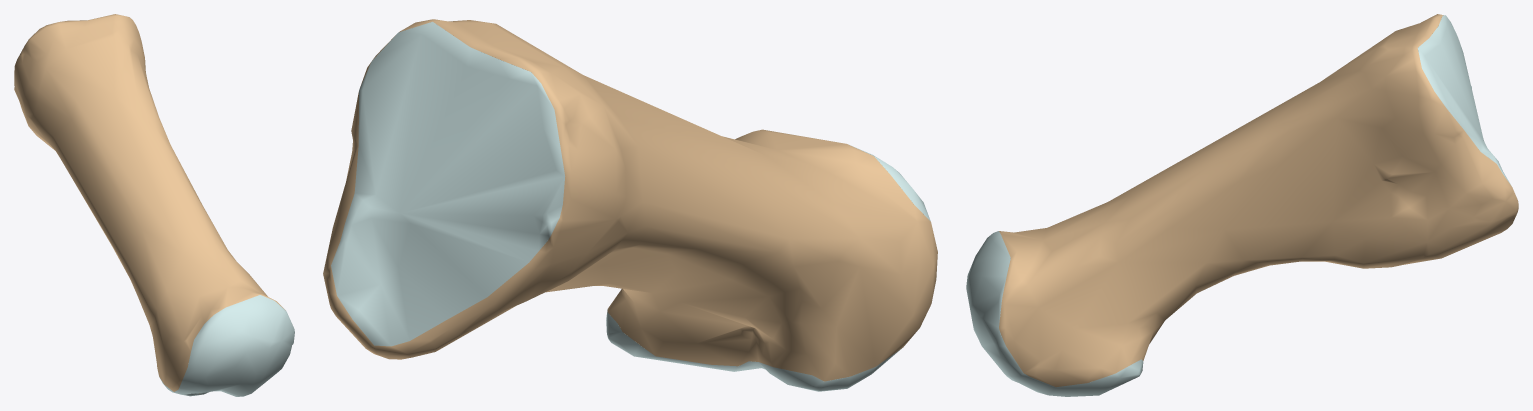
The model's file is 1st_metatarsal_bone.l_Generated_Mesh_From_X3D.935.glb.
3 views of the same model, side by side, from view 1: azimuth 30°, elevation 25°; view 2: azimuth 150°, elevation 25°; view 3: azimuth 270°, elevation 25° (orthographic). The views are drawn at different scales.
Visible parts, largest first — view 1: 1st_metatarsal_bone.l_Generated_Mesh_From_X3D.935; view 2: 1st_metatarsal_bone.l_Generated_Mesh_From_X3D.935; view 3: 1st_metatarsal_bone.l_Generated_Mesh_From_X3D.935.
Boxes of the visible parts, left/top/right/bottom form: 1st_metatarsal_bone.l_Generated_Mesh_From_X3D.935: left=14, top=14, right=294, bottom=396; 1st_metatarsal_bone.l_Generated_Mesh_From_X3D.935: left=323, top=19, right=937, bottom=391; 1st_metatarsal_bone.l_Generated_Mesh_From_X3D.935: left=966, top=14, right=1518, bottom=396.
Size of the model in its own units: 0.0218 by 0.0449 by 0.0636.
